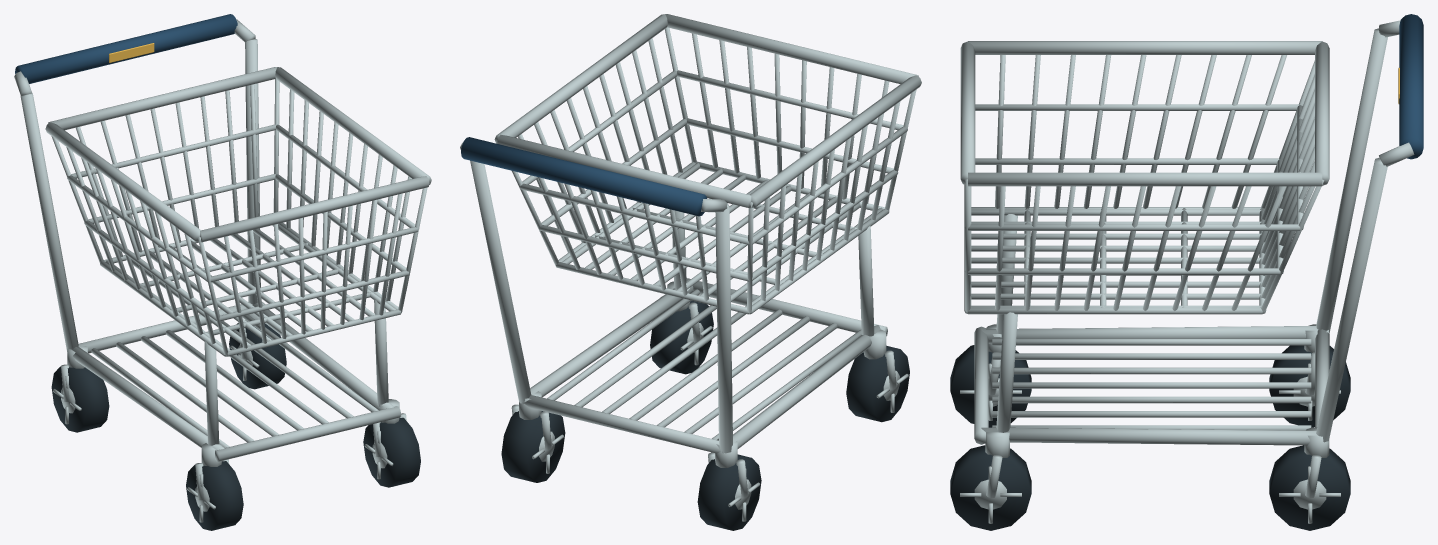
The model's file is shopping-cart.glb.
The picture shows the model from 3 angles, left to right: view 1: azimuth 30°, elevation 25°; view 2: azimuth 150°, elevation 25°; view 3: azimuth 270°, elevation 25°; orthographic projection. The views are drawn at different scales.
Parts seen in each view (by area): view 1: ShoppingCart_galvanised steel, ShoppingCart_blue handle, WheelFrontLeft_rubber wheels, WheelFrontRight_rubber wheels, WheelRearLeft_rubber wheels, WheelRearRight_rubber wheels; view 2: ShoppingCart_galvanised steel, ShoppingCart_blue handle, WheelRearLeft_rubber wheels, WheelFrontLeft_rubber wheels, WheelRearRight_rubber wheels, WheelFrontRight_rubber wheels, CasterRearLeft_galvanised steel, CasterRearRight_galvanised steel; view 3: ShoppingCart_galvanised steel, WheelFrontRight_rubber wheels, WheelRearRight_rubber wheels, ShoppingCart_blue handle, WheelFrontLeft_rubber wheels, WheelRearLeft_rubber wheels, CasterRearRight_galvanised steel, CasterFrontRight_galvanised steel.
Part boxes in pixels (bbox=[...]): ShoppingCart_galvanised steel: bbox=[14, 19, 431, 466]; ShoppingCart_blue handle: bbox=[15, 14, 237, 83]; WheelFrontLeft_rubber wheels: bbox=[186, 461, 243, 530]; WheelFrontRight_rubber wheels: bbox=[363, 417, 420, 487]; WheelRearLeft_rubber wheels: bbox=[51, 366, 109, 432]; WheelRearRight_rubber wheels: bbox=[229, 323, 286, 389]; ShoppingCart_galvanised steel: bbox=[460, 14, 921, 467]; ShoppingCart_blue handle: bbox=[461, 137, 707, 216]; WheelRearLeft_rubber wheels: bbox=[697, 454, 761, 530]; WheelFrontLeft_rubber wheels: bbox=[846, 345, 909, 422]; WheelRearRight_rubber wheels: bbox=[501, 411, 565, 482]; WheelFrontRight_rubber wheels: bbox=[650, 300, 713, 374]; CasterRearLeft_galvanised steel: bbox=[708, 452, 751, 509]; CasterRearRight_galvanised steel: bbox=[511, 404, 554, 461]; ShoppingCart_galvanised steel: bbox=[960, 20, 1414, 457]; WheelFrontRight_rubber wheels: bbox=[950, 445, 1031, 530]; WheelRearRight_rubber wheels: bbox=[1269, 445, 1350, 530]; ShoppingCart_blue handle: bbox=[1399, 14, 1423, 159]; WheelFrontLeft_rubber wheels: bbox=[950, 345, 1031, 427]; WheelRearLeft_rubber wheels: bbox=[1269, 345, 1350, 427]; CasterRearRight_galvanised steel: bbox=[1293, 454, 1326, 509]; CasterFrontRight_galvanised steel: bbox=[974, 454, 1006, 509].
Size of the model in its own units: 1.2 by 1.62 by 1.75.
